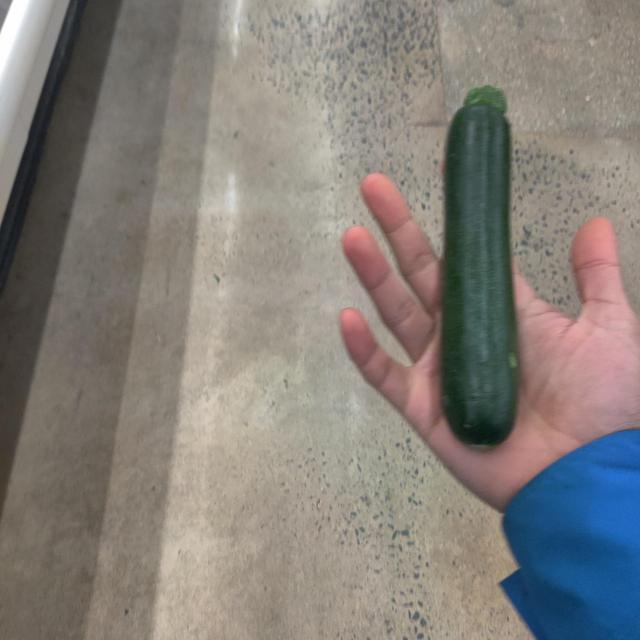Zucchini: (444, 86, 521, 448)
